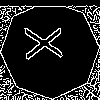X: (25, 25, 72, 61)
